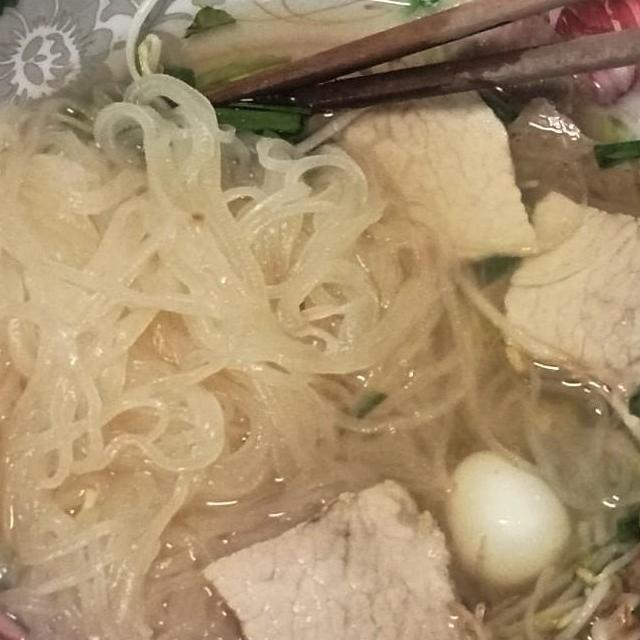banh hu tieu: (0, 60, 420, 593)
hu tieu: (0, 0, 640, 640)
thit heo: (196, 478, 507, 640), (324, 68, 548, 272), (491, 182, 640, 408)
trung: (432, 446, 580, 586)
